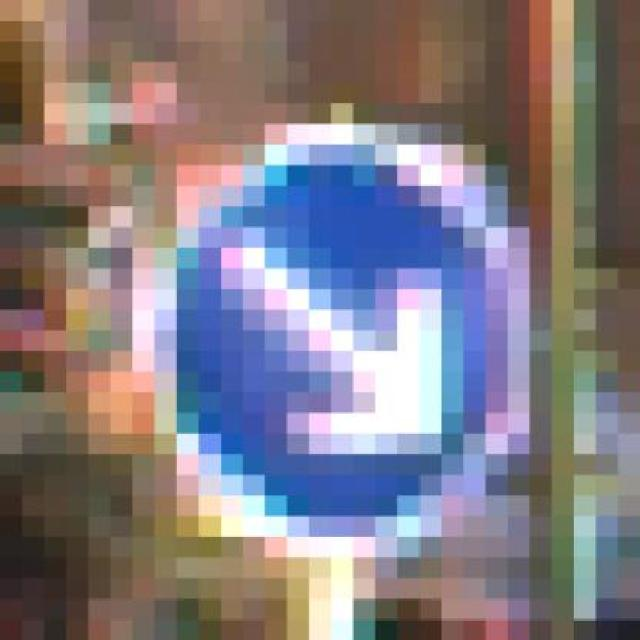Keep-Right: (88, 82, 574, 558)
